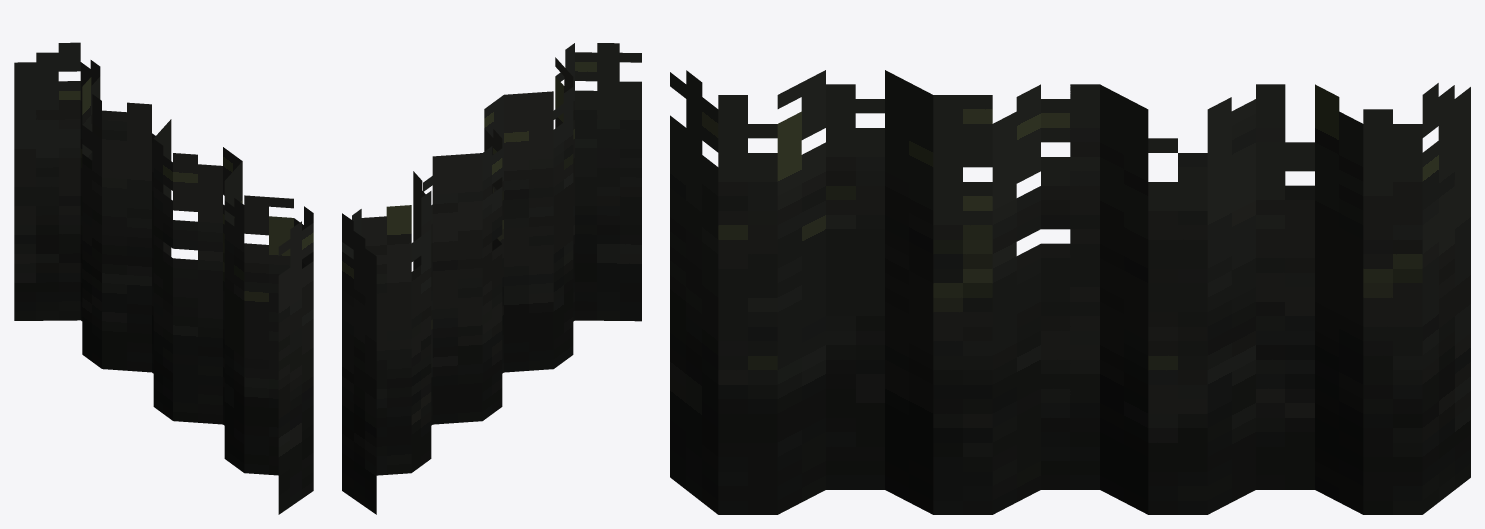
The model's file is Foliage2FBX.fbx.
3 views of the same model, side by side, from view 1: azimuth 30°, elevation 25°; view 2: azimuth 150°, elevation 25°; view 3: azimuth 270°, elevation 25° (orthographic). The views are drawn at different scales.
Visible parts, largest first — view 1: FoliageB; view 2: FoliageB; view 3: FoliageB.
Part boxes in pixels (x1,y1,x2,y2): FoliageB: (14,42,313,514); FoliageB: (342,43,641,514); FoliageB: (670,70,1470,514).
Bounding box in the file's own units: 184 × 1059 × 1659.
